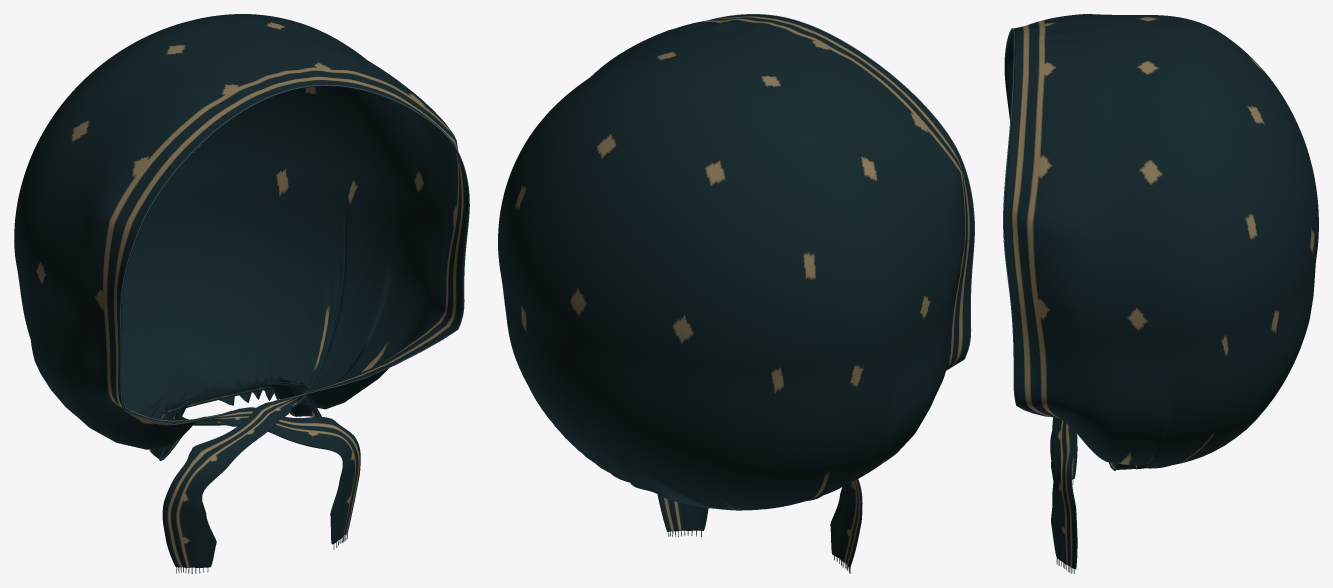
The model's file is Masculine-locs-shirtless-pashmina250-headgear.glb.
The picture shows the model from 3 angles, left to right: view 1: azimuth 30°, elevation 25°; view 2: azimuth 150°, elevation 25°; view 3: azimuth 270°, elevation 25°; orthographic projection. The views are drawn at different scales.
Visible parts, largest first — view 1: 226 headgear / Headwear / continuous woven pashmina239, 226 headgear / Headwear / face edge239; view 2: 226 headgear / Headwear / continuous woven pashmina239, 226 headgear / Headwear / face edge239; view 3: 226 headgear / Headwear / continuous woven pashmina239, 226 headgear / Headwear / face edge239.
Boxes of the visible parts, <box> form: 226 headgear / Headwear / continuous woven pashmina239: <box>14,14,468,567</box>; 226 headgear / Headwear / face edge239: <box>120,84,469,424</box>; 226 headgear / Headwear / continuous woven pashmina239: <box>498,14,974,567</box>; 226 headgear / Headwear / face edge239: <box>707,14,974,370</box>; 226 headgear / Headwear / continuous woven pashmina239: <box>1004,14,1318,569</box>; 226 headgear / Headwear / face edge239: <box>1003,28,1048,416</box>.
Size of the model in its own units: 1.1 by 1.39 by 0.7988.
3 materials, 1 textured.
